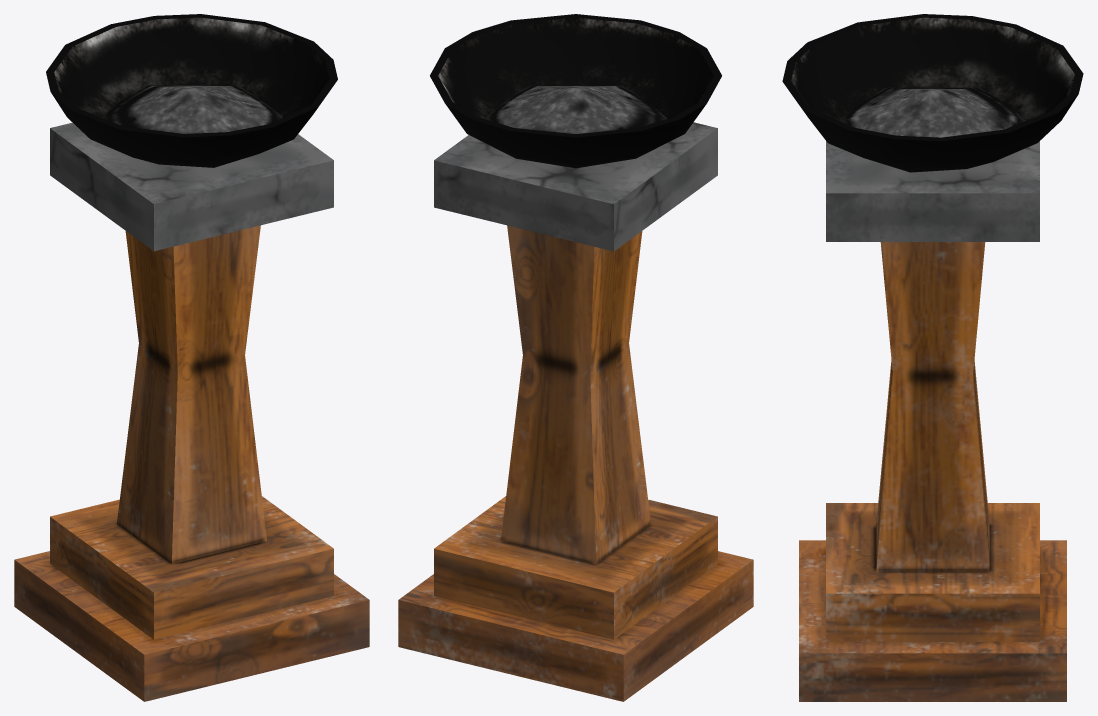
The model's file is LightStand.FBX.
The picture shows the model from 3 angles, left to right: view 1: azimuth 30°, elevation 25°; view 2: azimuth 150°, elevation 25°; view 3: azimuth 270°, elevation 25°; orthographic projection. The views are drawn at different scales.
Parts seen in each view (by area): view 1: LightStand; view 2: LightStand; view 3: LightStand.
Boxes of the visible parts, x1,y1,x2,y2 form: LightStand: [14, 14, 369, 701]; LightStand: [398, 14, 753, 701]; LightStand: [782, 14, 1083, 701].
Size of the model in its own units: 44.29 by 92.15 by 44.29.
